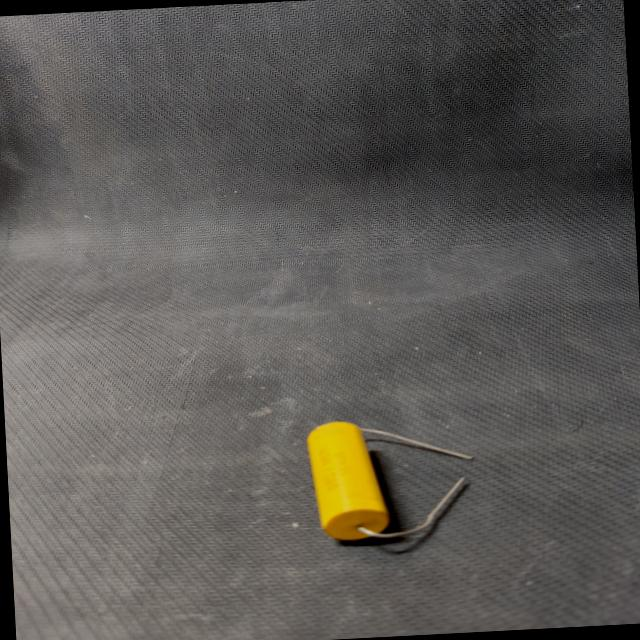capacitor: (292, 403, 488, 566)
